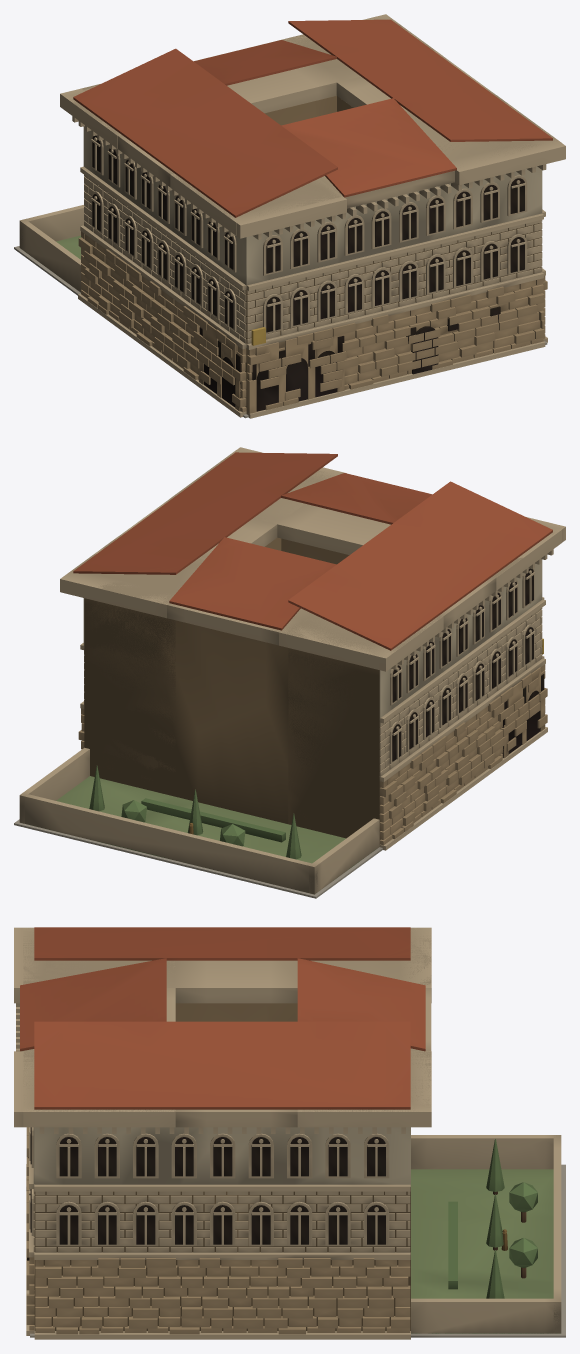
Rendered from palazzo-medici.glb.
3 views of the same model, one above another, from view 1: azimuth 30°, elevation 25°; view 2: azimuth 150°, elevation 25°; view 3: azimuth 270°, elevation 25° (orthographic). The views are drawn at different scales.
Visible parts, largest first — view 1: p0_walls, p1_cornice, p2_garden; view 2: p0_walls, p1_cornice, p2_garden; view 3: p0_walls, p1_cornice, p2_garden.
Part boxes in pixels (x1,y1,x2,y2): p0_walls: [14, 95, 547, 418]; p1_cornice: [60, 14, 565, 239]; p2_garden: [19, 205, 84, 292]; p0_walls: [14, 537, 547, 898]; p1_cornice: [60, 447, 565, 671]; p2_garden: [19, 747, 379, 894]; p0_walls: [26, 1003, 565, 1339]; p1_cornice: [14, 927, 431, 1133]; p2_garden: [411, 1135, 561, 1333].
Size of the model in its own units: 46.4 by 30.82 by 58.7.
